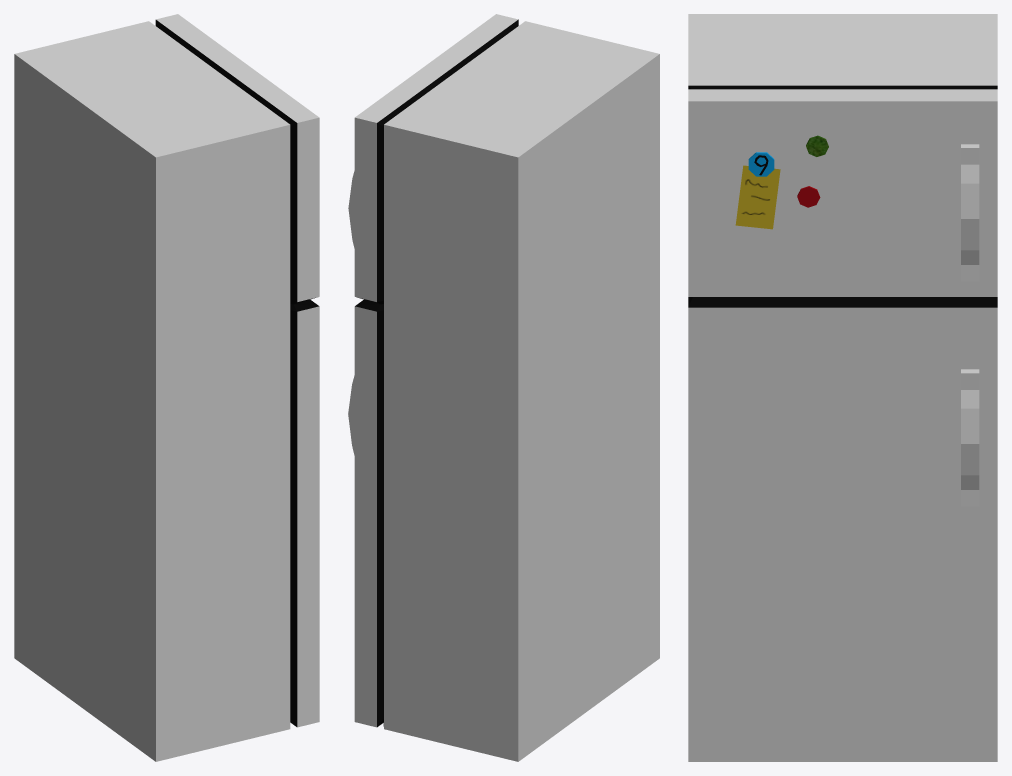
Rendered from Fridge.fbx.
The picture shows the model from 3 angles, left to right: view 1: azimuth 30°, elevation 25°; view 2: azimuth 150°, elevation 25°; view 3: azimuth 270°, elevation 25°; orthographic projection. The views are drawn at different scales.
Visible parts, largest first — view 1: Fridge, FridgeDoor1, FridgeDoor2; view 2: Fridge, FridgeDoor1, FridgeDoor2; view 3: FridgeDoor1, FridgeDoor2, Fridge.
Part boxes in pixels (bbox=[...]): Fridge: bbox=[14, 21, 290, 761]; FridgeDoor1: bbox=[290, 299, 319, 727]; FridgeDoor2: bbox=[155, 14, 319, 304]; Fridge: bbox=[383, 21, 659, 761]; FridgeDoor1: bbox=[348, 299, 383, 727]; FridgeDoor2: bbox=[348, 14, 518, 304]; FridgeDoor1: bbox=[688, 297, 997, 761]; FridgeDoor2: bbox=[688, 89, 997, 296]; Fridge: bbox=[688, 14, 997, 89].
Size of the model in its own units: 49.11 by 35.8 by 116.
